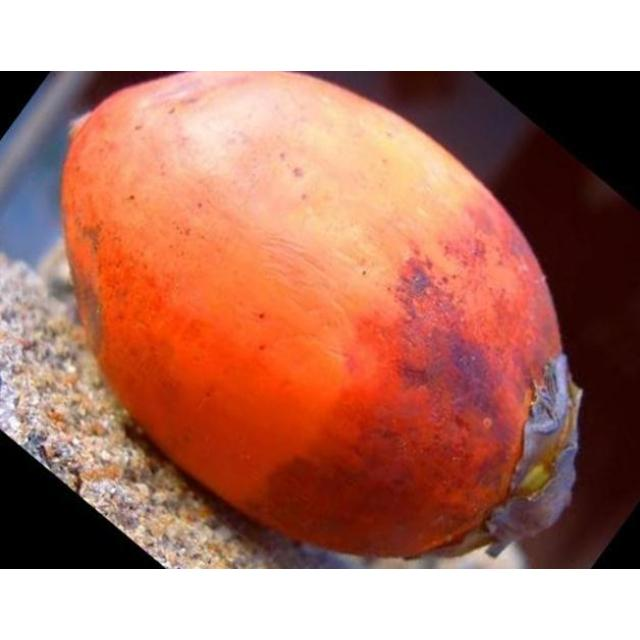good: (60, 71, 583, 560)
